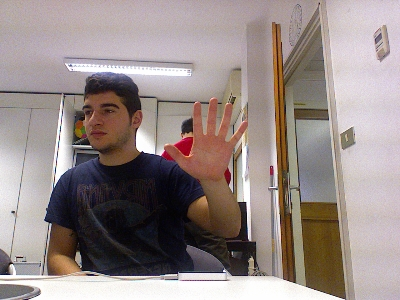布: (162, 97, 248, 182)
